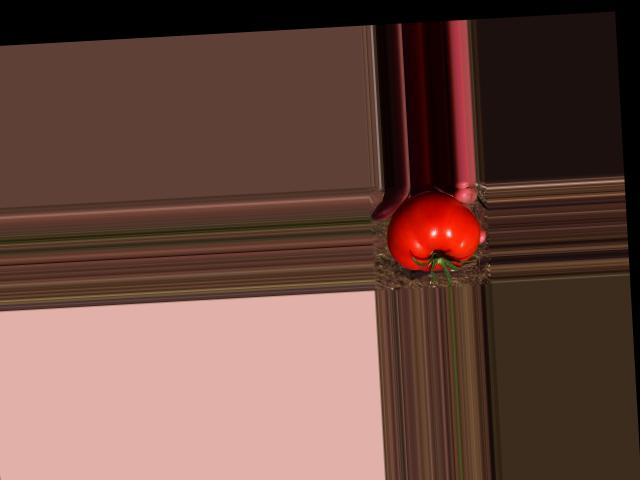tomato: (385, 188, 482, 273)
